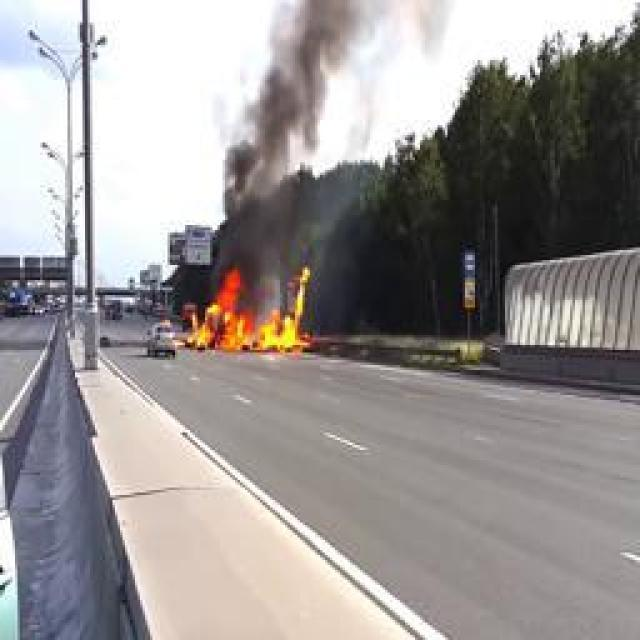Fire: (182, 268, 312, 350)
